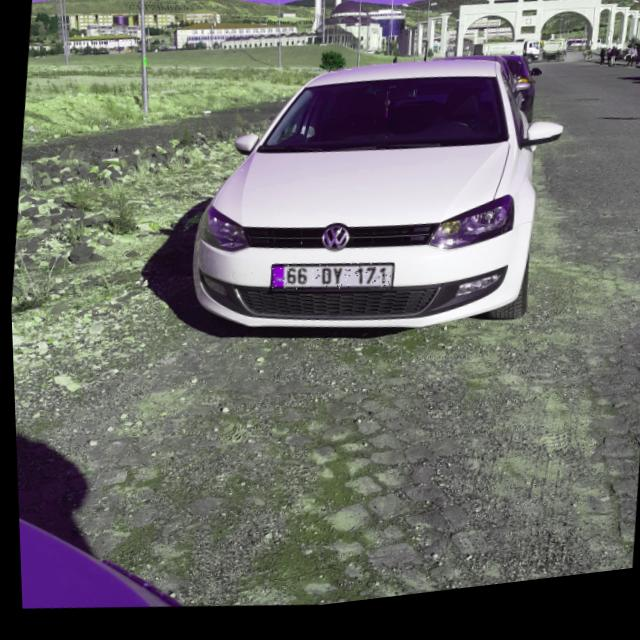license_plate: (266, 259, 392, 308)
